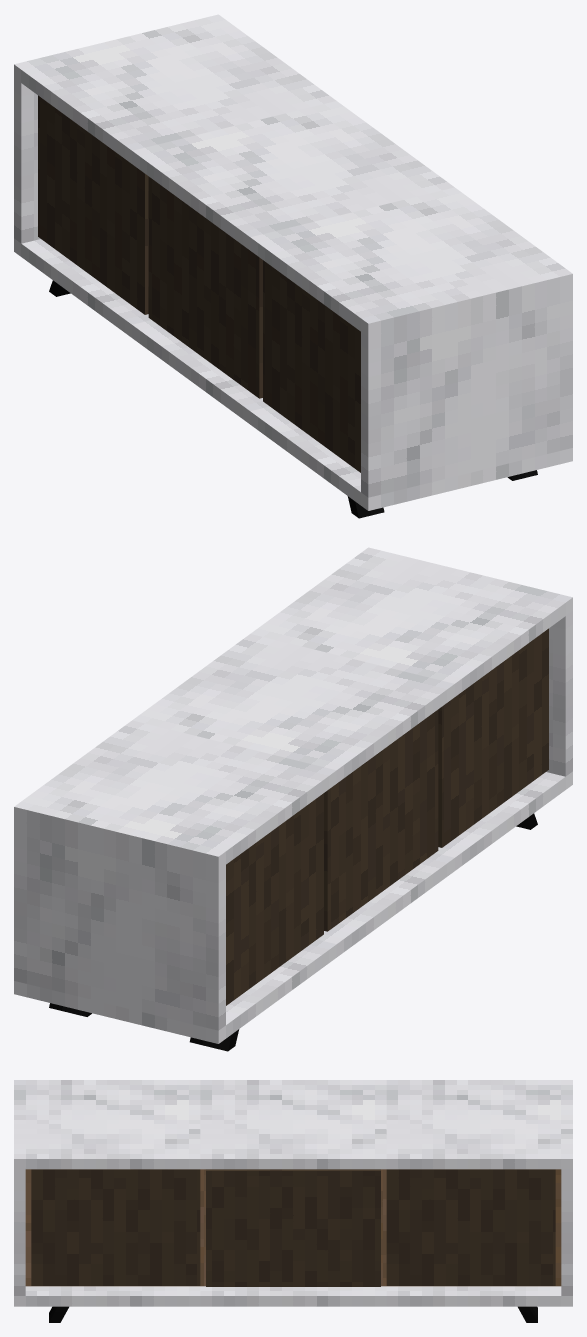
Rendered from buffet.gltf.
The picture shows the model from 3 angles, top to bottom: view 1: azimuth 30°, elevation 25°; view 2: azimuth 150°, elevation 25°; view 3: azimuth 270°, elevation 25°; orthographic projection. The views are drawn at different scales.
Parts seen in each view (by area): view 1: cube (×11); view 2: cube (×11); view 3: cube (×12).
Part boxes in pixels (box(x1,y1,x2,y2)): cube (×11): box(14, 14, 572, 510); cube (×11): box(14, 547, 572, 1043); cube (×12): box(14, 1080, 572, 1306).
Bounding box in the file's own units: 10 × 10 × 30.
